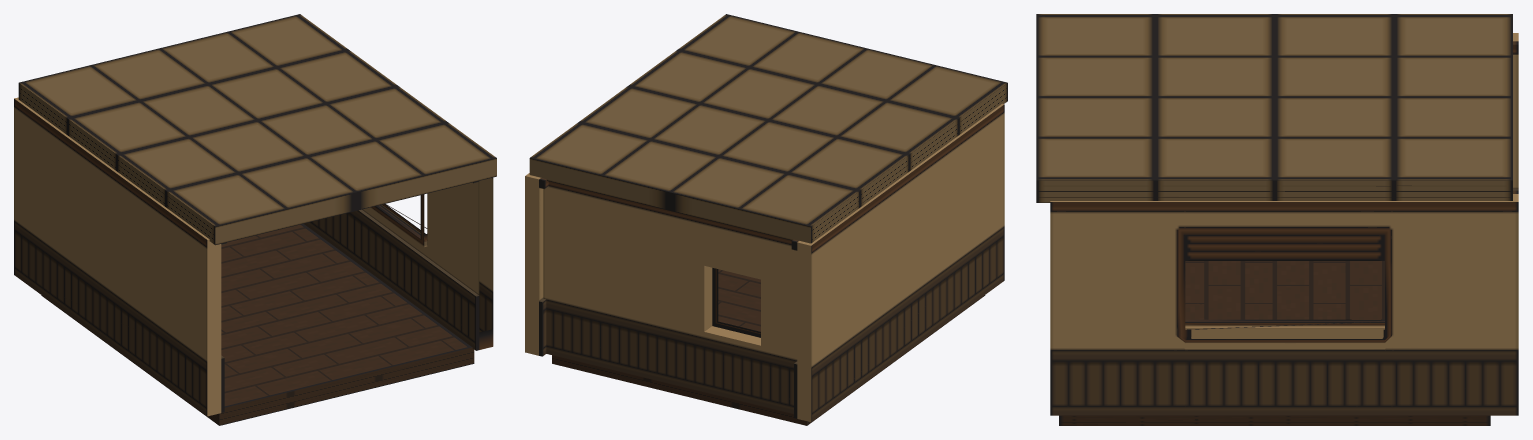
The model's file is Room4.fbx.
3 views of the same model, side by side, from view 1: azimuth 30°, elevation 25°; view 2: azimuth 150°, elevation 25°; view 3: azimuth 270°, elevation 25° (orthographic). The views are drawn at different scales.
Visible parts, largest first — view 1: Ceiling, LeftWall, Floor, LeftWall1; view 2: Ceiling, FrontWall, LeftWall, Floor, LeftWall1, Door; view 3: LeftWall1, Ceiling, Floor, LeftWall.
Part boxes in pixels (x1,y1,x2,y2): Ceiling: [18, 14, 496, 245]; LeftWall: [14, 97, 226, 416]; Floor: [41, 224, 474, 425]; LeftWall1: [304, 177, 493, 350]; Ceiling: [529, 14, 1007, 243]; FrontWall: [543, 181, 797, 413]; LeftWall: [791, 103, 1004, 421]; Floor: [552, 269, 985, 425]; LeftWall1: [525, 173, 548, 356]; Door: [712, 268, 760, 337]; LeftWall1: [1050, 190, 1518, 415]; Ceiling: [1036, 14, 1512, 202]; Floor: [1059, 261, 1490, 425]; LeftWall: [1513, 33, 1518, 190].
Size of the model in its own units: 57.51 by 40.21 by 69.31.
